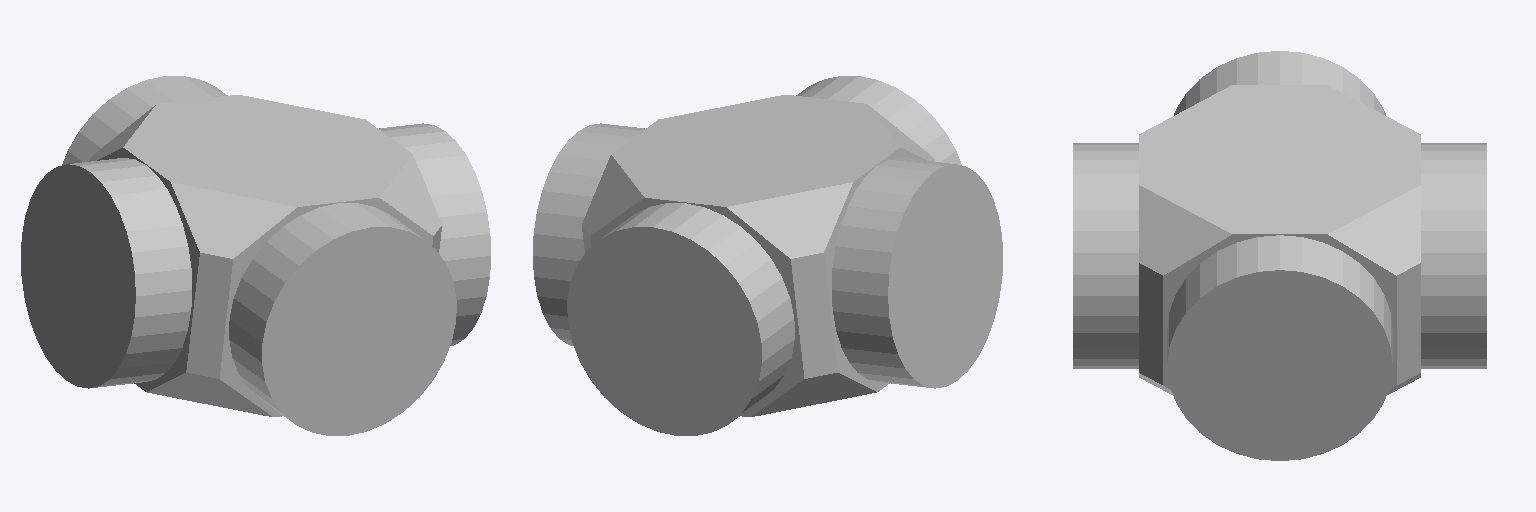
The model's file is geo-32f0b655-f08d-4cde-a690-00aa2f9eb98c.obj.
3 views of the same model, side by side, from view 1: azimuth 30°, elevation 25°; view 2: azimuth 150°, elevation 25°; view 3: azimuth 270°, elevation 25° (orthographic).
Visible parts, largest first — view 1: 0; view 2: 0; view 3: 0.
Boxes of the visible parts, <box> form: 0: <box>21,76,490,435</box>; 0: <box>533,76,1002,435</box>; 0: <box>1073,51,1486,460</box>.
Bounding box in the file's own units: 23.3 × 14.61 × 22.